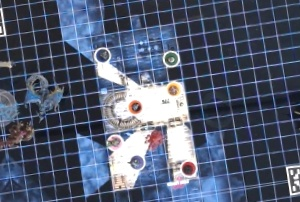blue: (93, 44, 113, 63)
green: (159, 47, 181, 68)
orange: (124, 96, 145, 115)
pink: (104, 130, 124, 151)
red: (178, 157, 199, 180)
violet: (127, 151, 148, 170)
yellow: (164, 78, 183, 98)
